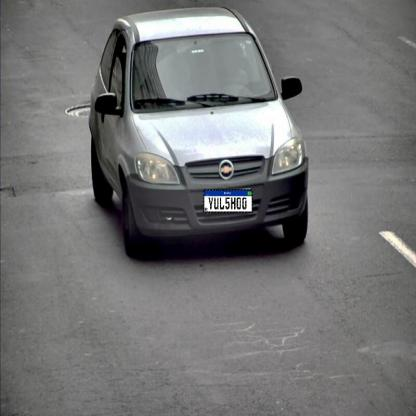PlacaM: (203, 189, 253, 213)
